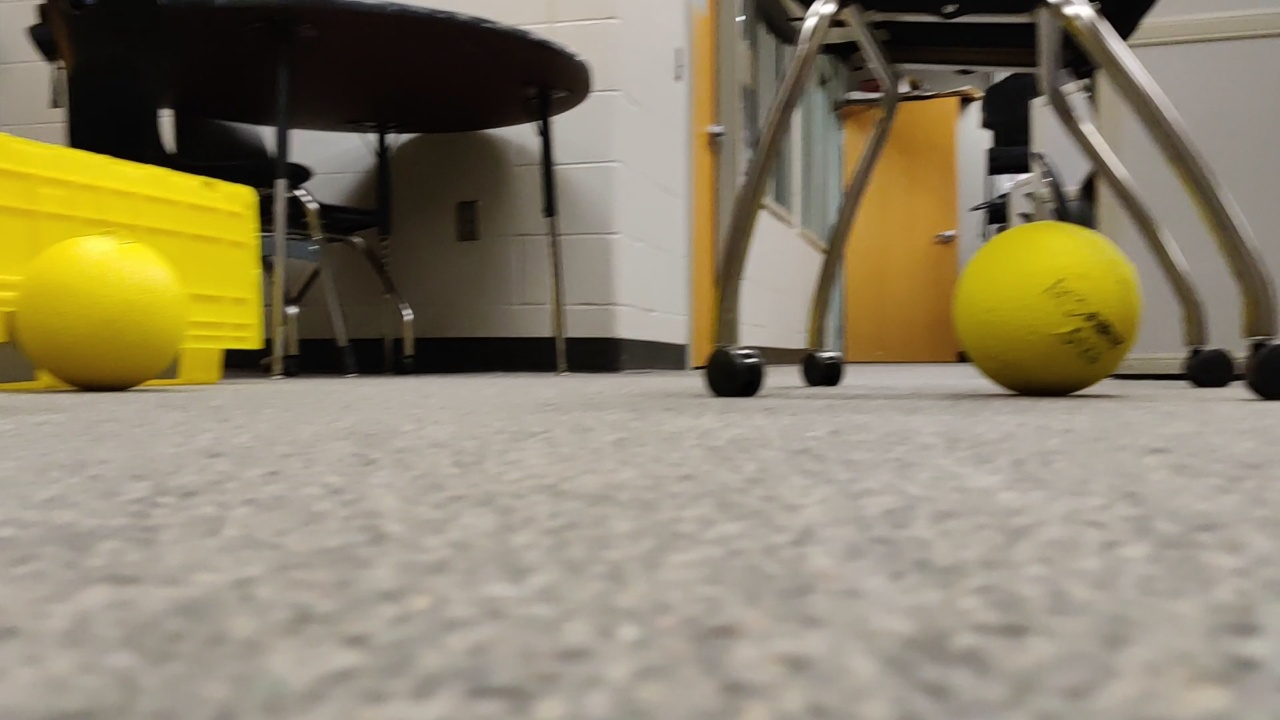Ball: (954, 223, 1144, 411), (15, 237, 166, 392)
